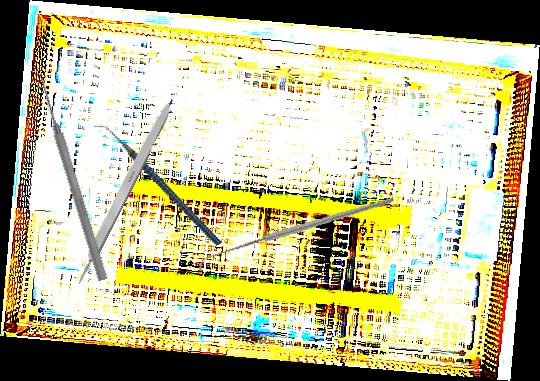Chopper: (91, 97, 223, 273)
Hook Surgical: (198, 159, 395, 309)
Pusher: (34, 76, 111, 282)
Scalpel Handle: (70, 95, 177, 287)
